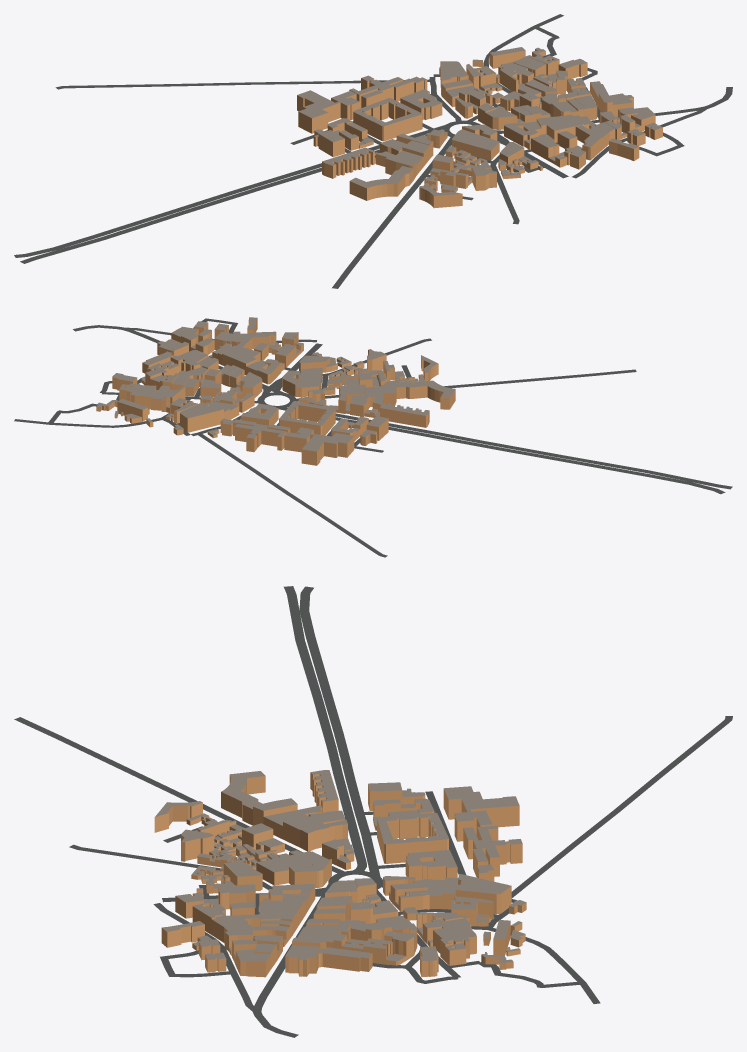
The model's file is godmap.fbx.
3 renders of one model, top to bottom at view 1: azimuth 30°, elevation 25°; view 2: azimuth 150°, elevation 25°; view 3: azimuth 270°, elevation 25°, orthographic. The views are drawn at different scales.
Visible parts, largest first — view 1: map_14.osm_buildings, map_14.osm_roads_primary, map_14.osm_roads_residential, map_14.osm_roads_secondary, map_14.osm_roads_tertiary; view 2: map_14.osm_buildings, map_14.osm_roads_primary, map_14.osm_roads_residential, map_14.osm_roads_secondary, map_14.osm_roads_tertiary; view 3: map_14.osm_buildings, map_14.osm_roads_primary, map_14.osm_roads_residential, map_14.osm_roads_secondary, map_14.osm_roads_tertiary.
Boxes of the visible parts, x1,y1,x2,y2 form: map_14.osm_buildings: [297, 47, 662, 208]; map_14.osm_roads_primary: [14, 120, 568, 263]; map_14.osm_roads_residential: [290, 14, 706, 224]; map_14.osm_roads_secondary: [332, 87, 732, 288]; map_14.osm_roads_tertiary: [55, 79, 429, 89]; map_14.osm_buildings: [96, 317, 455, 465]; map_14.osm_roads_primary: [257, 343, 732, 494]; map_14.osm_roads_residential: [14, 318, 431, 452]; map_14.osm_roads_secondary: [73, 325, 636, 401]; map_14.osm_roads_tertiary: [198, 433, 387, 557]; map_14.osm_buildings: [154, 770, 526, 977]; map_14.osm_roads_primary: [162, 586, 382, 902]; map_14.osm_roads_residential: [69, 791, 600, 1012]; map_14.osm_roads_secondary: [14, 717, 344, 1037]; map_14.osm_roads_tertiary: [511, 716, 732, 898].
Bounding box in the file's own units: 99260 × 2068 × 66747.
